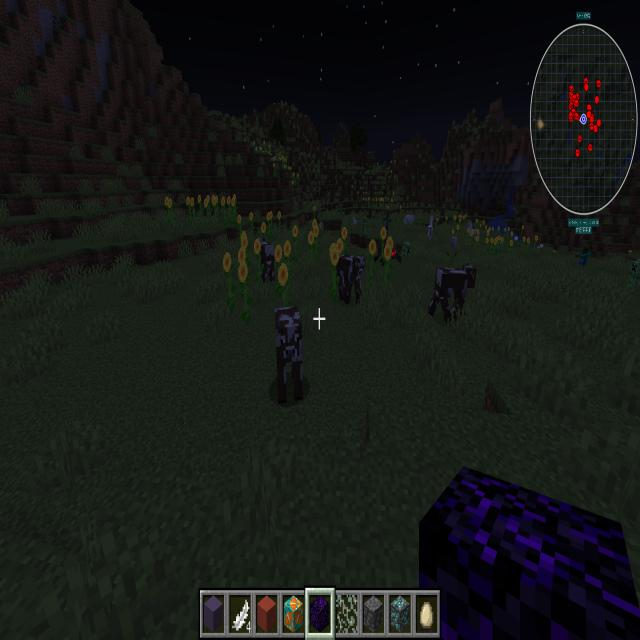Creeper: (626, 260, 640, 300), (400, 240, 414, 260), (360, 213, 369, 241), (496, 240, 504, 262)
Skeleton: (446, 233, 458, 264)
Spider: (373, 237, 403, 272)
Zombie: (572, 242, 594, 270)
chicken: (352, 214, 358, 230)
cow: (267, 300, 310, 407), (424, 260, 481, 333), (332, 252, 367, 309), (251, 231, 278, 289)
